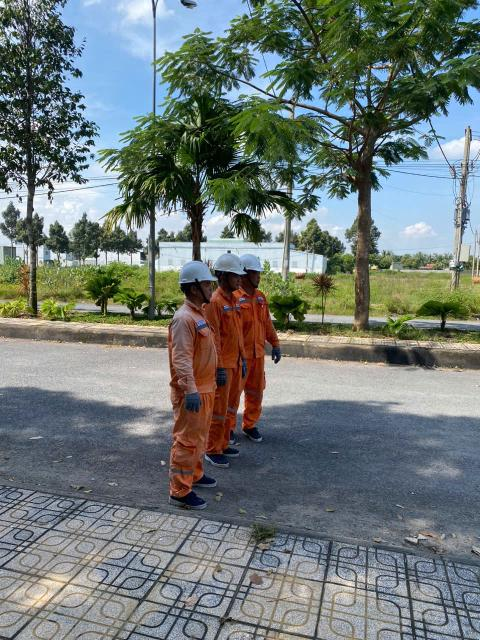gloves: (182, 391, 208, 421), (208, 367, 231, 386), (232, 355, 251, 378), (267, 342, 284, 365)
helmet: (168, 254, 217, 290), (229, 248, 268, 275), (211, 247, 244, 276)
shoes: (159, 482, 207, 515), (242, 419, 265, 451), (204, 446, 231, 473), (179, 473, 220, 488), (217, 438, 241, 459), (223, 430, 239, 446)
